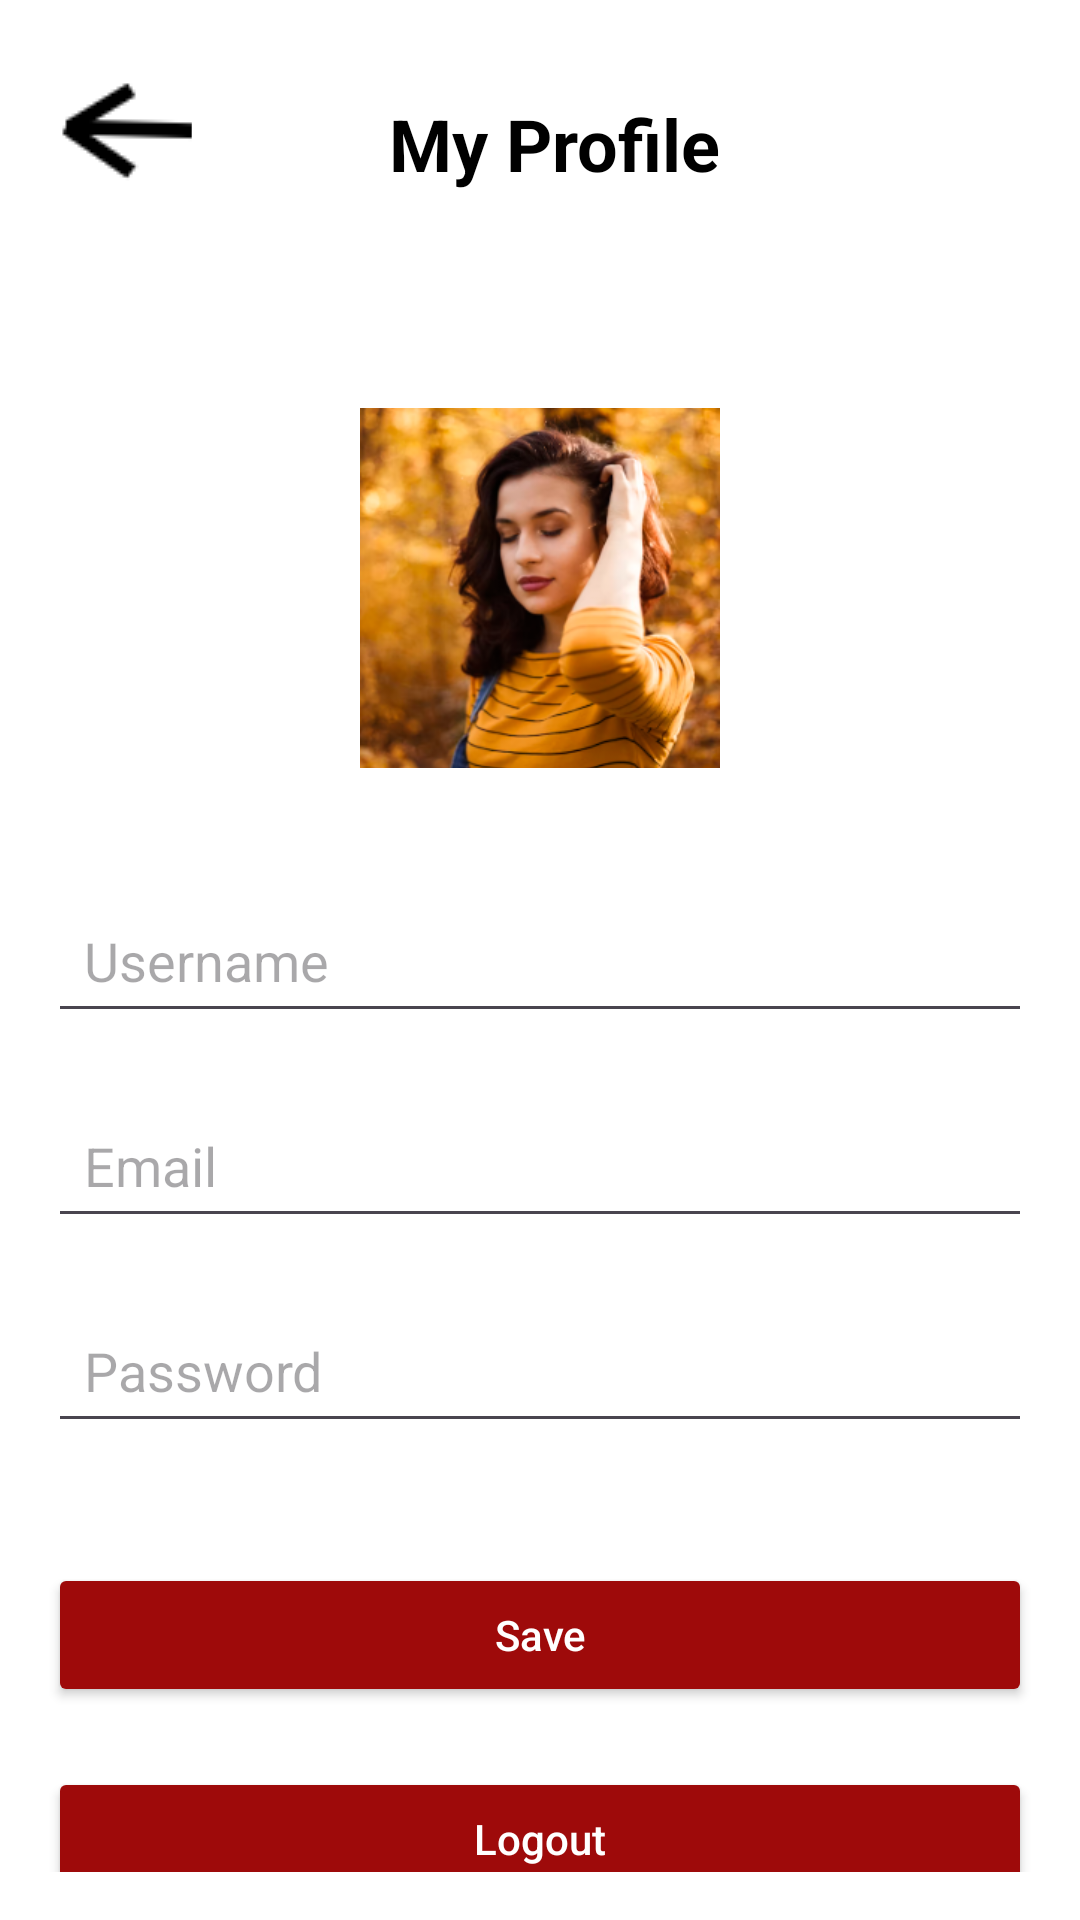

Icons on this 1080x1920 Android screen, each with the point to tap as (x=x, y=y):
Back: (x=127, y=130)
Profile Picture: (x=540, y=588)
